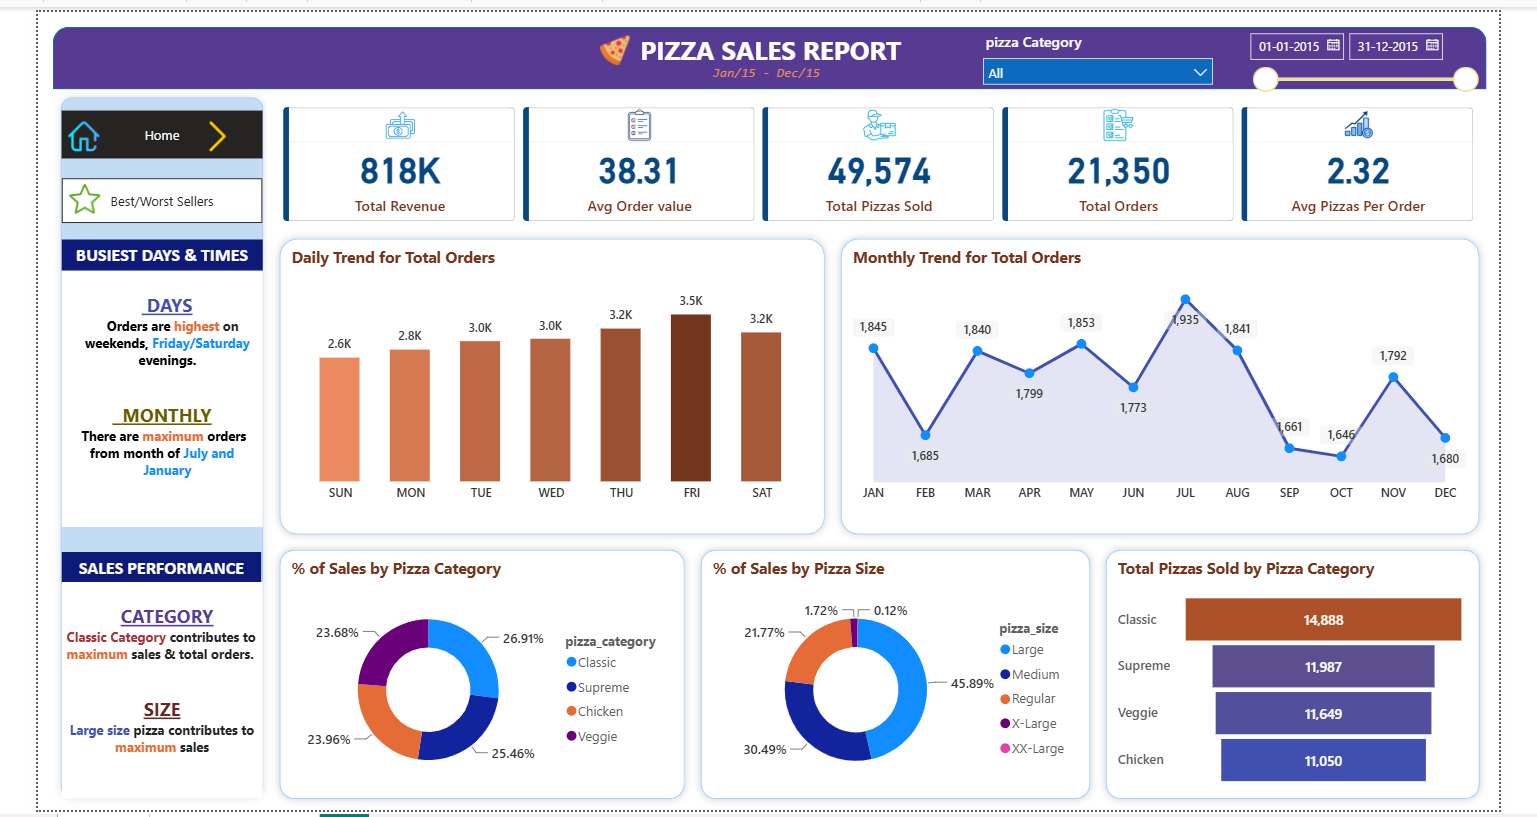

The page's visual inventory and layout, read from the dashboard file:
{"tool":"powerbi","page":{"name":"Home","canvas":[1500,820],"ordinal":0},"visuals":[{"type":"shape","box":[16,80,224,736],"z":0},{"type":"cardVisual","fields":{"Data":["pizza_sales_data.Total Revenue","pizza_sales_data.Avg Order value","pizza_sales_data.Total Pizzas Sold","pizza_sales_data.Total Orders","pizza_sales_data.Avg Pizzas Per Order"]},"box":[235,81,1260,151],"z":1000},{"type":"shape","box":[16,16,1472,64],"z":2000},{"type":"textbox","box":[608,16,288,48],"z":3000},{"type":"textbox","box":[688,48,160,32],"z":4000},{"type":"image","box":[576,16,32,48],"z":5000},{"type":"shape","box":[240,224,576,320],"z":6000},{"type":"columnChart","title":"Daily Trend for Total Orders","fields":{"Category":["pizza_sales_data.Order Day"],"Y":["pizza_sales_data.Total Orders"]},"box":[256,240,544,272],"z":7000},{"type":"shape","box":[816,224,672,320],"z":8000},{"type":"areaChart","title":"Monthly Trend for Total Orders","fields":{"Y":["pizza_sales_data.Total Orders"],"Category":["pizza_sales_data.Order Month"]},"box":[832,240,640,272],"z":9000},{"type":"shape","box":[240,544,432,272],"z":10000},{"type":"shape","box":[672,544,416,272],"z":11000},{"type":"shape","box":[1088,544,400,272],"z":12000},{"type":"donutChart","title":"% of Sales by Pizza Category","fields":{"Category":["pizza_sales_data.pizza_category"],"Y":["pizza_sales_data.Total Revenue"]},"box":[256,560,400,240],"z":13000},{"type":"donutChart","title":"% of Sales by Pizza Size","fields":{"Y":["pizza_sales_data.Total Revenue"],"Category":["pizza_sales_data.pizza_size"]},"box":[688,560,384,240],"z":14000},{"type":"funnel","title":"Total Pizzas Sold by Pizza Category","fields":{"Category":["pizza_sales_data.pizza_category"],"Y":["pizza_sales_data.Total Pizzas Sold"]},"box":[1104,560,368,240],"z":15000},{"type":"textbox","box":[25,234,206,32],"z":16000},{"type":"textbox","box":[25,266,206,263],"z":17000},{"type":"textbox","box":[25,554,205,32],"z":18000},{"type":"textbox","box":[25,585,206,222],"z":19000},{"type":"slicer","fields":{"Values":["pizza_sales_data.pizza_category"]},"box":[960,16,256,64],"z":20000},{"type":"slicer","fields":{"Values":["pizza_sales_data.order_date"]},"box":[1232,11,255,80],"z":21000},{"type":"pageNavigator","box":[25,101,206,49],"z":22000},{"type":"pageNavigator","box":[25,171,206,46],"z":23000},{"type":"image","box":[160,112,48,32],"z":24000},{"type":"image","box":[23,112,48,32],"z":25000},{"type":"image","box":[32,176,32,32],"z":26000}]}

Visuals, with their boxes in screenshot pixels (x1, y1, x2, y2), scaled from the page's 1500x820 canvas onto the 1537x817 screenshot:
shape: Rect(16, 80, 246, 813)
cardVisual - pizza_sales_data.Total Revenue x pizza_sales_data.Avg Order value: Rect(241, 81, 1532, 231)
shape: Rect(16, 16, 1525, 80)
textbox: Rect(623, 16, 918, 64)
textbox: Rect(705, 48, 869, 80)
image: Rect(590, 16, 623, 64)
shape: Rect(246, 223, 836, 542)
"Daily Trend for Total Orders" columnChart: Rect(262, 239, 820, 510)
shape: Rect(836, 223, 1525, 542)
"Monthly Trend for Total Orders" areaChart: Rect(853, 239, 1508, 510)
shape: Rect(246, 542, 689, 813)
shape: Rect(689, 542, 1115, 813)
shape: Rect(1115, 542, 1525, 813)
"% of Sales by Pizza Category" donutChart: Rect(262, 558, 672, 797)
"% of Sales by Pizza Size" donutChart: Rect(705, 558, 1098, 797)
"Total Pizzas Sold by Pizza Category" funnel: Rect(1131, 558, 1508, 797)
textbox: Rect(26, 233, 237, 265)
textbox: Rect(26, 265, 237, 527)
textbox: Rect(26, 552, 236, 584)
textbox: Rect(26, 583, 237, 804)
slicer - pizza_sales_data.pizza_category: Rect(984, 16, 1246, 80)
slicer - pizza_sales_data.order_date: Rect(1262, 11, 1524, 91)
pageNavigator: Rect(26, 101, 237, 149)
pageNavigator: Rect(26, 170, 237, 216)
image: Rect(164, 112, 213, 143)
image: Rect(24, 112, 73, 143)
image: Rect(33, 175, 66, 207)
